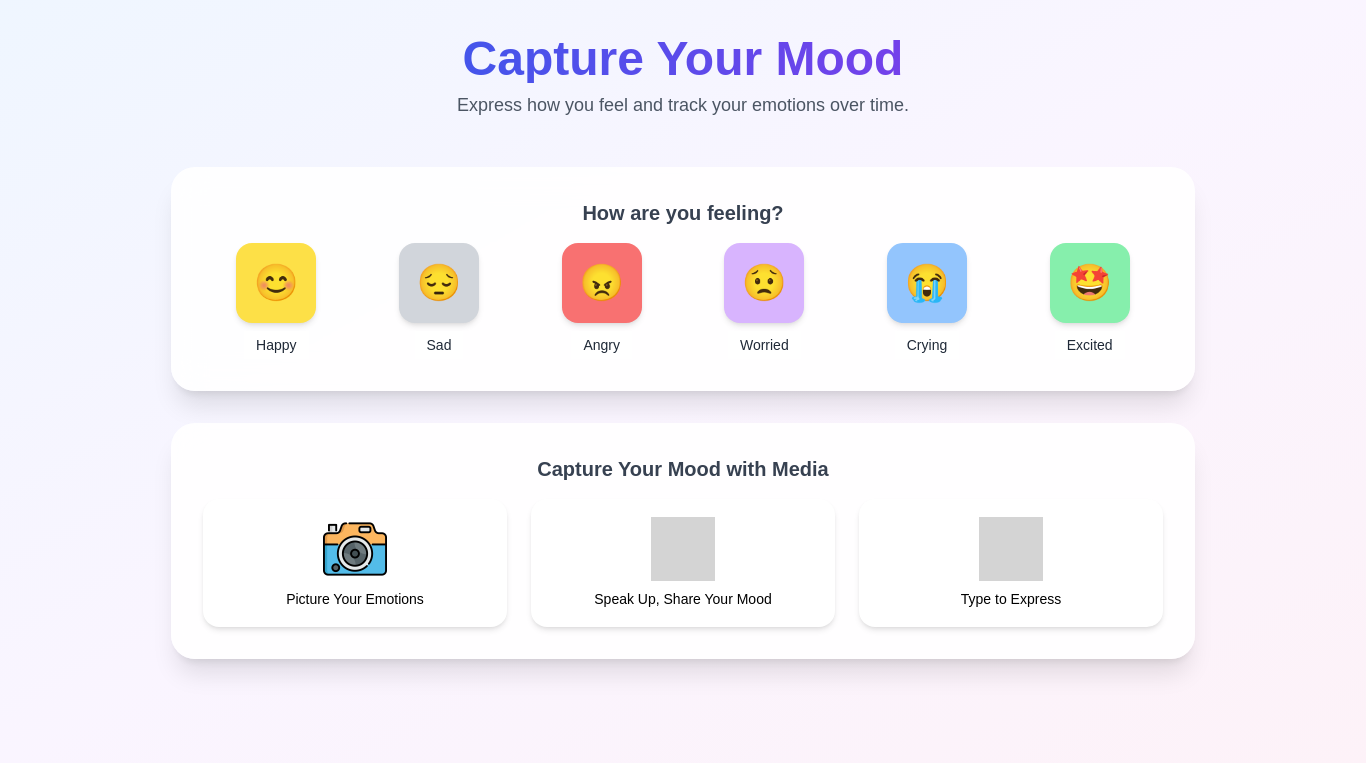
Test: MoodCapture Component › selects a mood when clicking on a mood button
This screenshot has width=1366, height=763.
Note: Find Happy mood button by its emoji and click it
Click the button "😊": (276,283) [254,263,299,303]
(page scrolled)
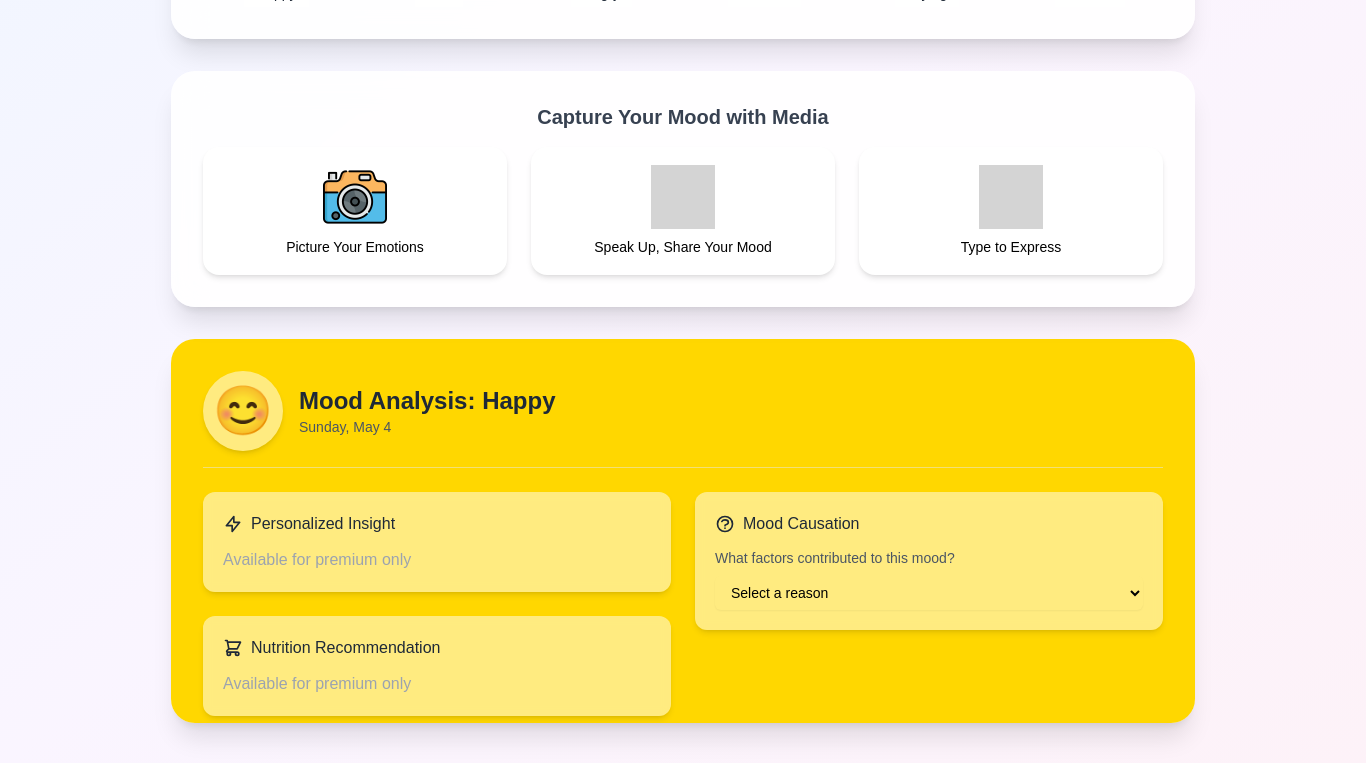
Now the heading "Mood Analysis: Happy" is shown, box [299,385,556,417]
